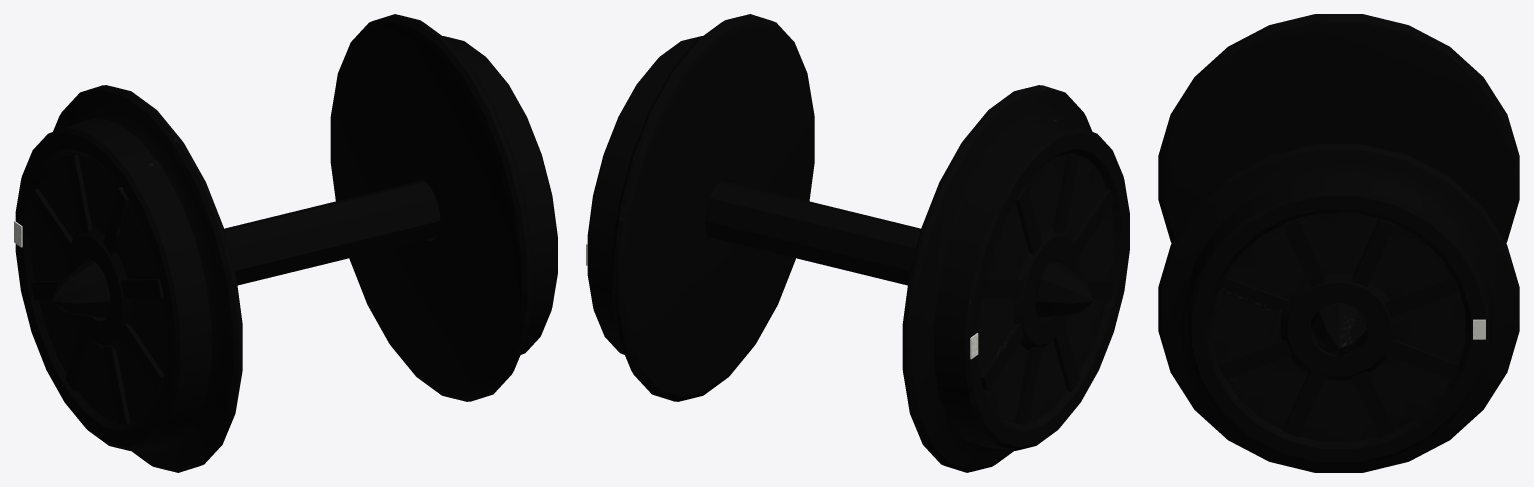
File: wheel_pair_p01.glb
3 renders of one model, left to right at view 1: azimuth 30°, elevation 25°; view 2: azimuth 150°, elevation 25°; view 3: azimuth 270°, elevation 25°, orthographic. The views are drawn at different scales.
Parts seen in each view (by area): view 1: WS_B_Speichen; view 2: WS_B_Speichen; view 3: WS_B_Speichen.
Boxes of the visible parts, x1=… form: WS_B_Speichen: x1=14, y1=14, x2=557, y2=472; WS_B_Speichen: x1=586, y1=14, x2=1129, y2=472; WS_B_Speichen: x1=1158, y1=14, x2=1519, y2=472.
Size of the model in its own units: 2.46 by 1.78 by 1.78.
1 material, 1 textured.
